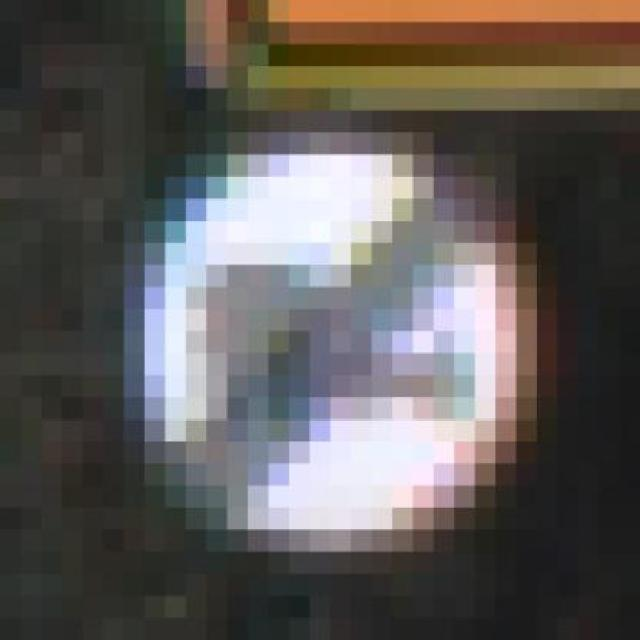Overtaking by trucks is prohibited: (82, 132, 578, 574)
